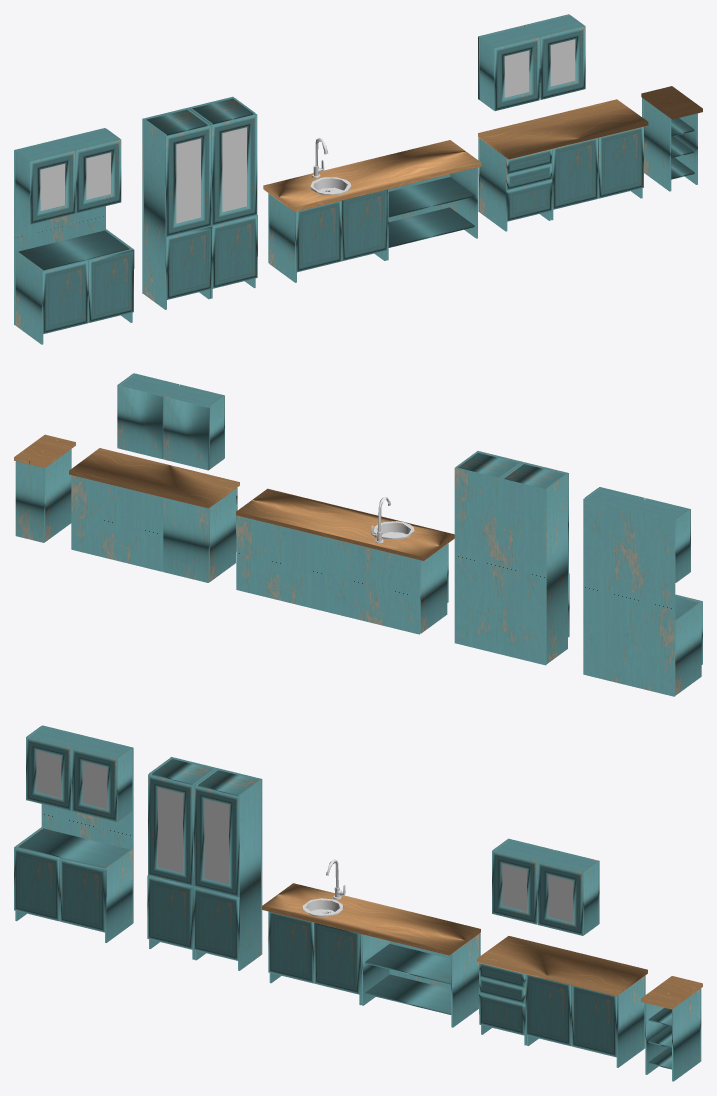
The model's file is kitchen-run.lod0.glb.
3 renders of one model, top to bottom at view 1: azimuth 30°, elevation 25°; view 2: azimuth 150°, elevation 25°; view 3: azimuth 330°, elevation 25°, orthographic.
Visible parts, largest first — view 1: Cabinet_Back_A.005_Material_0, Cabinet_FrontGlass_B.005_glass_0; view 2: Cabinet_Back_A.005_Material_0, Cabinet_FrontGlass_B.005_glass_0; view 3: Cabinet_Back_A.005_Material_0, Cabinet_FrontGlass_B.005_glass_0.
Boxes of the visible parts, left/top/right/bottom form: Cabinet_Back_A.005_Material_0: left=14, top=14, right=702, bottom=344; Cabinet_FrontGlass_B.005_glass_0: left=40, top=39, right=575, bottom=223; Cabinet_Back_A.005_Material_0: left=14, top=373, right=702, bottom=696; Cabinet_FrontGlass_B.005_glass_0: left=371, top=497, right=414, bottom=543; Cabinet_Back_A.005_Material_0: left=14, top=725, right=702, bottom=1081; Cabinet_FrontGlass_B.005_glass_0: left=36, top=750, right=573, bottom=922.
Size of the model in its own units: 7.6 by 1.93 by 0.6258.
Materials: 2 (1 with a texture image).
